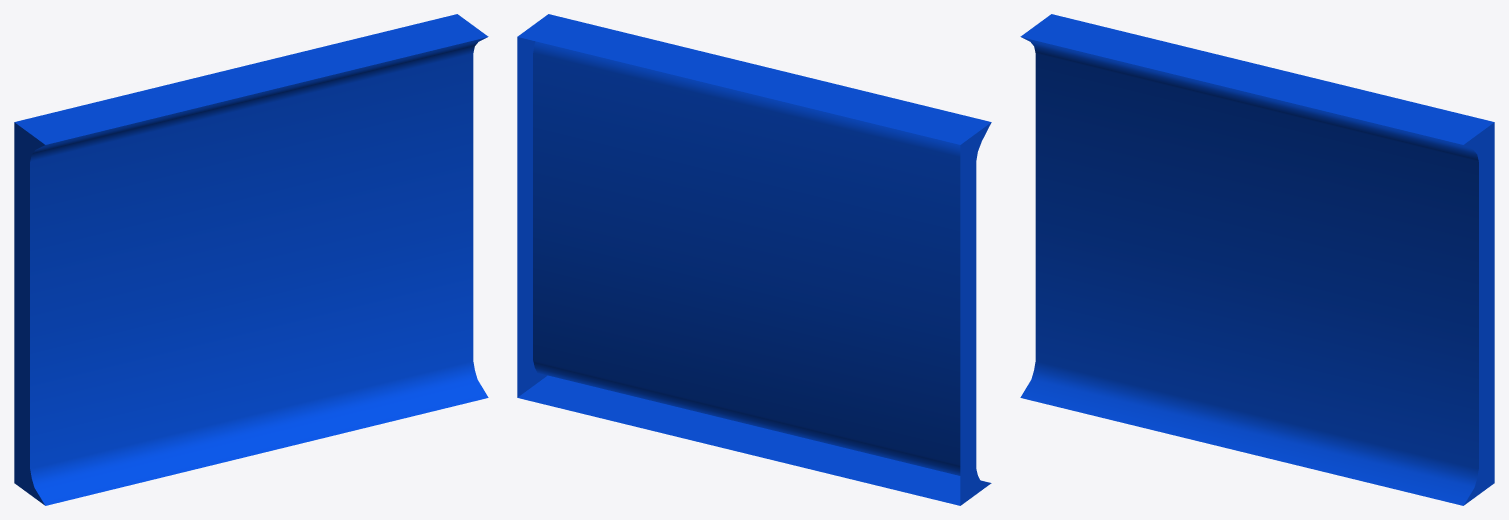
File: HallwayWall.fbx
3 views of the same model, side by side, from view 1: azimuth 30°, elevation 25°; view 2: azimuth 150°, elevation 25°; view 3: azimuth 330°, elevation 25° (orthographic).
Parts seen in each view (by area): view 1: wallHallway; view 2: wallHallway; view 3: wallHallway.
Part boxes in pixels (bbox=[...]): wallHallway: bbox=[14, 14, 488, 505]; wallHallway: bbox=[517, 14, 991, 505]; wallHallway: bbox=[1020, 14, 1494, 505].
Size of the model in its own units: 273 by 350 by 42.79.
